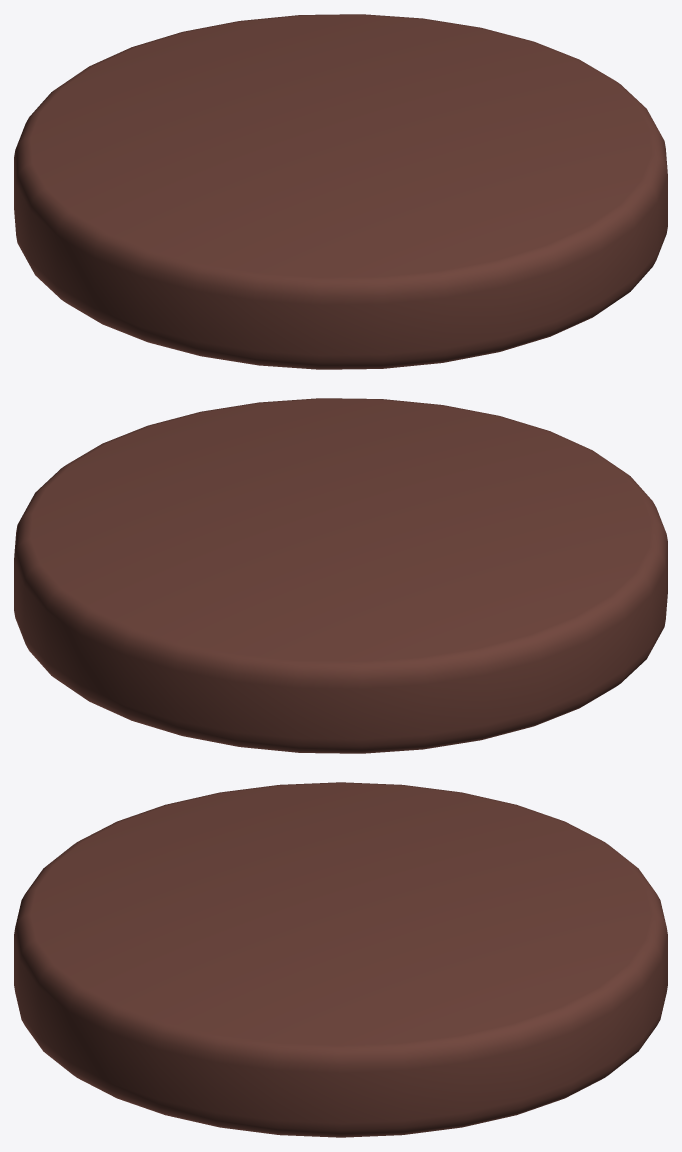
The model's file is meat.fbx.
3 views of the same model, one above another, from view 1: azimuth 30°, elevation 25°; view 2: azimuth 150°, elevation 25°; view 3: azimuth 270°, elevation 25° (orthographic).
Visible parts, largest first — view 1: meat; view 2: meat; view 3: meat.
Boxes of the visible parts, left/top/right/bottom form: meat: left=14, top=14, right=667, bottom=369; meat: left=14, top=398, right=667, bottom=753; meat: left=14, top=782, right=667, bottom=1137.
Size of the model in its own units: 99.74 by 15.29 by 99.74.
